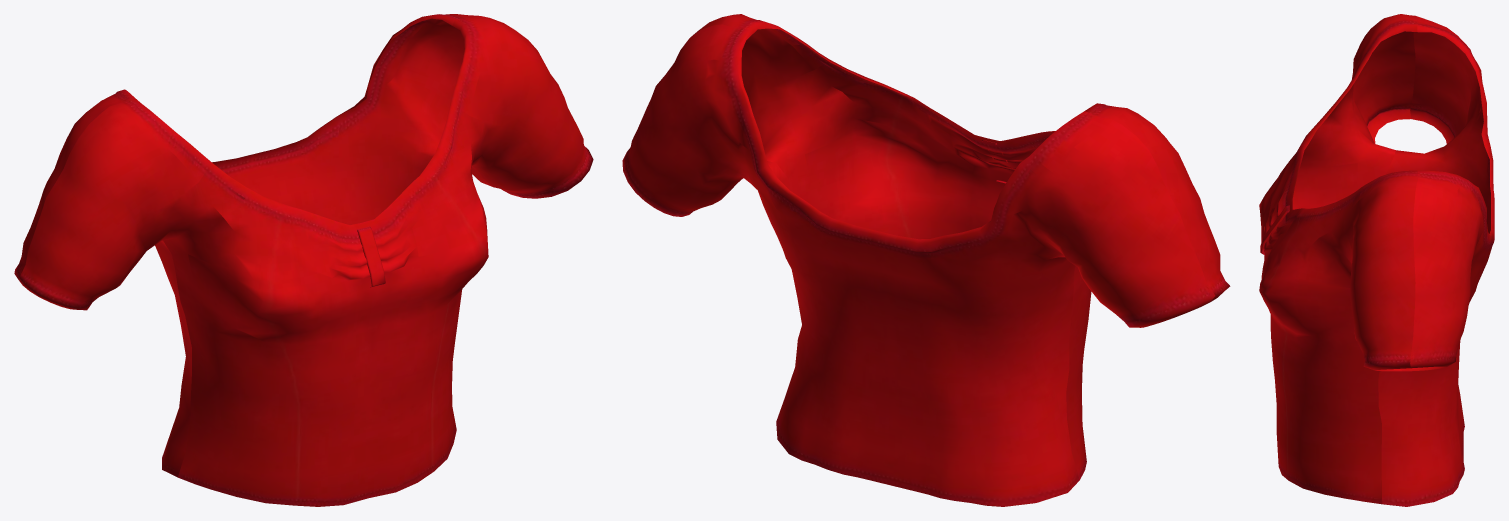
Rendered from punkduck-retro-top.glb.
3 renders of one model, left to right at view 1: azimuth 30°, elevation 25°; view 2: azimuth 150°, elevation 25°; view 3: azimuth 270°, elevation 25°, orthographic. The views are drawn at different scales.
Parts seen in each view (by area): view 1: retro top; view 2: retro top; view 3: retro top.
Boxes of the visible parts, box(x1,y1,x2,y2) form: retro top: box(14, 14, 593, 506); retro top: box(622, 14, 1230, 506); retro top: box(1259, 14, 1494, 506).
Bounding box in the file's own units: 57.68 × 37.97 × 22.56.
1 material, 1 textured.
